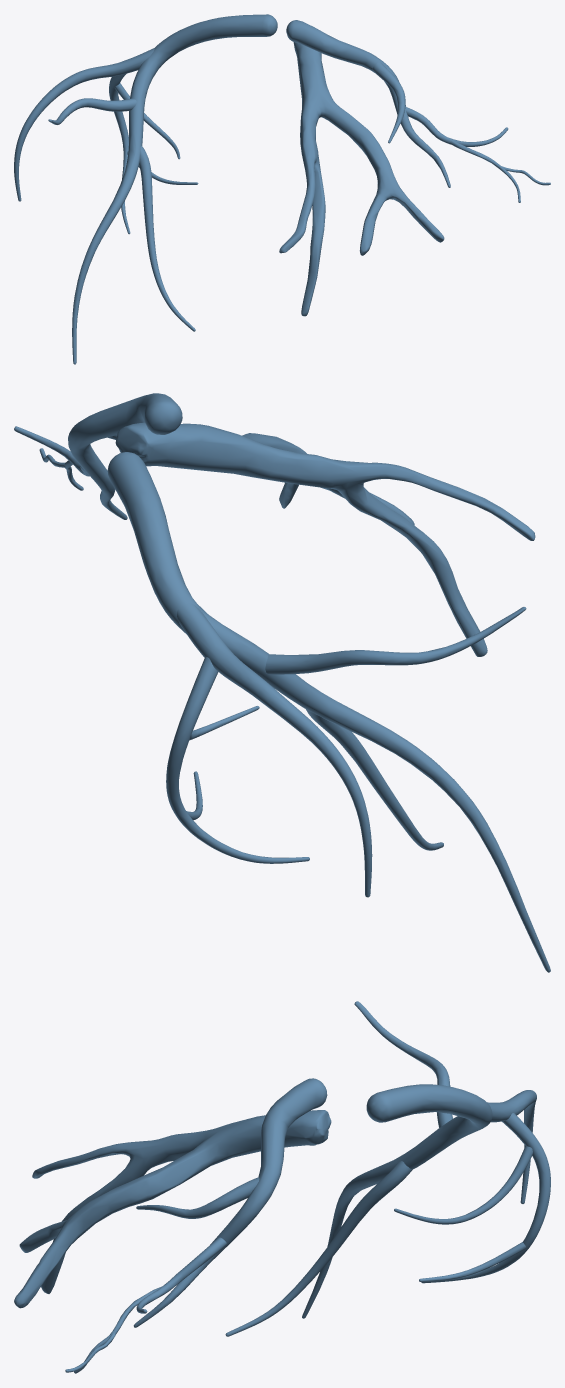
File: hepatic-veins.glb
3 views of the same model, one above another, from view 1: azimuth 30°, elevation 25°; view 2: azimuth 150°, elevation 25°; view 3: azimuth 270°, elevation 25° (orthographic). The views are drawn at different scales.
Visible parts, largest first — view 1: FMA15791, FMA14340, FMA15794; view 2: FMA15791, FMA14340, FMA15794; view 3: FMA15791, FMA14340, FMA15794.
Part boxes in pixels (bbox=[...]): FMA15791: bbox=[14, 14, 277, 364]; FMA14340: bbox=[279, 42, 444, 316]; FMA15794: bbox=[286, 20, 550, 202]; FMA15791: bbox=[107, 452, 550, 972]; FMA14340: bbox=[115, 422, 535, 656]; FMA15794: bbox=[14, 393, 182, 519]; FMA15791: bbox=[225, 1001, 550, 1336]; FMA14340: bbox=[14, 1110, 331, 1308]; FMA15794: bbox=[65, 1078, 327, 1373].
Bounding box in the file's own units: 1.38 × 0.958 × 1.21.
